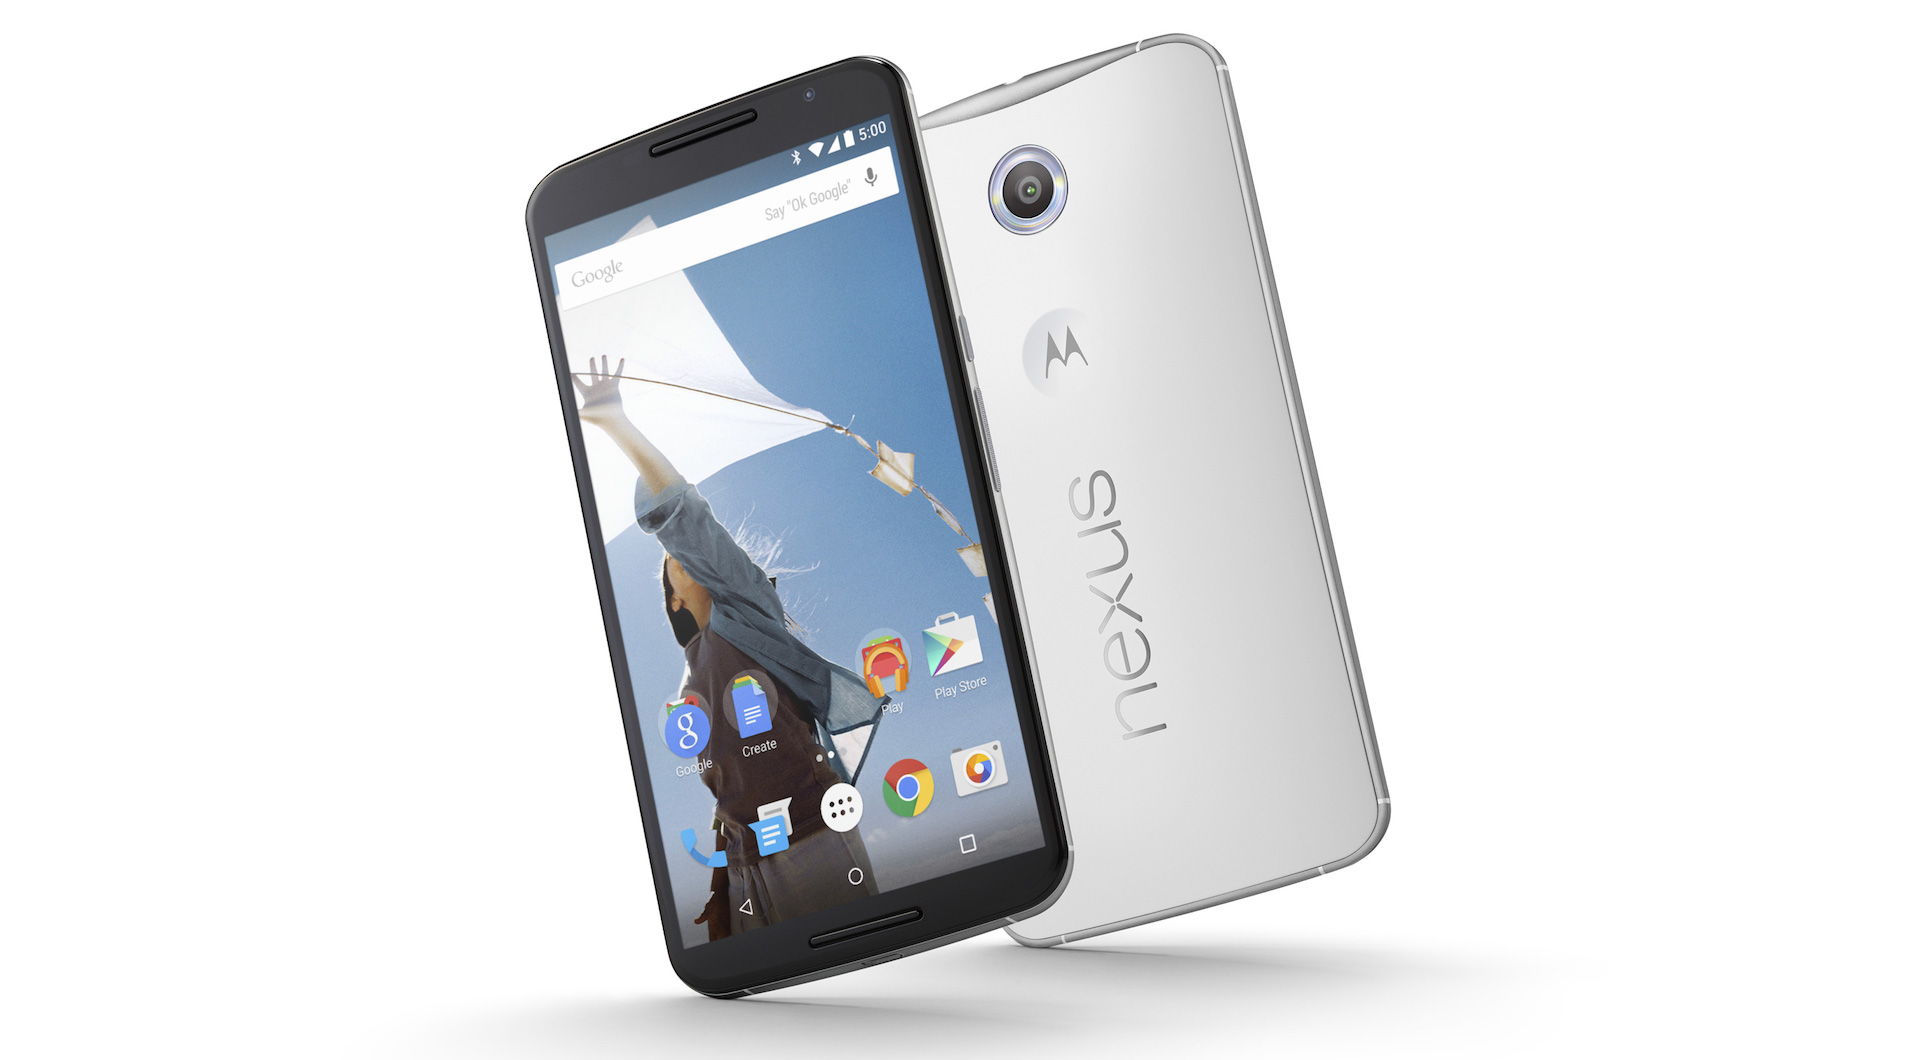smartphone: (526, 54, 1076, 1003), (912, 31, 1395, 950)
